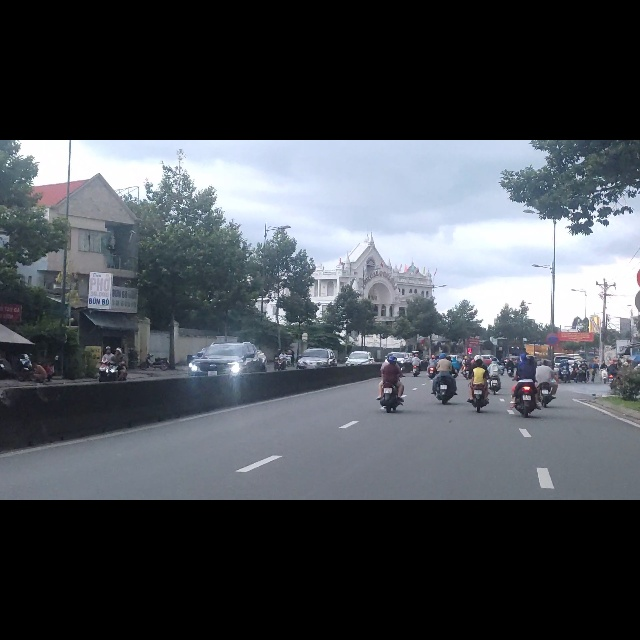bien_cam: (546, 344, 559, 367)
